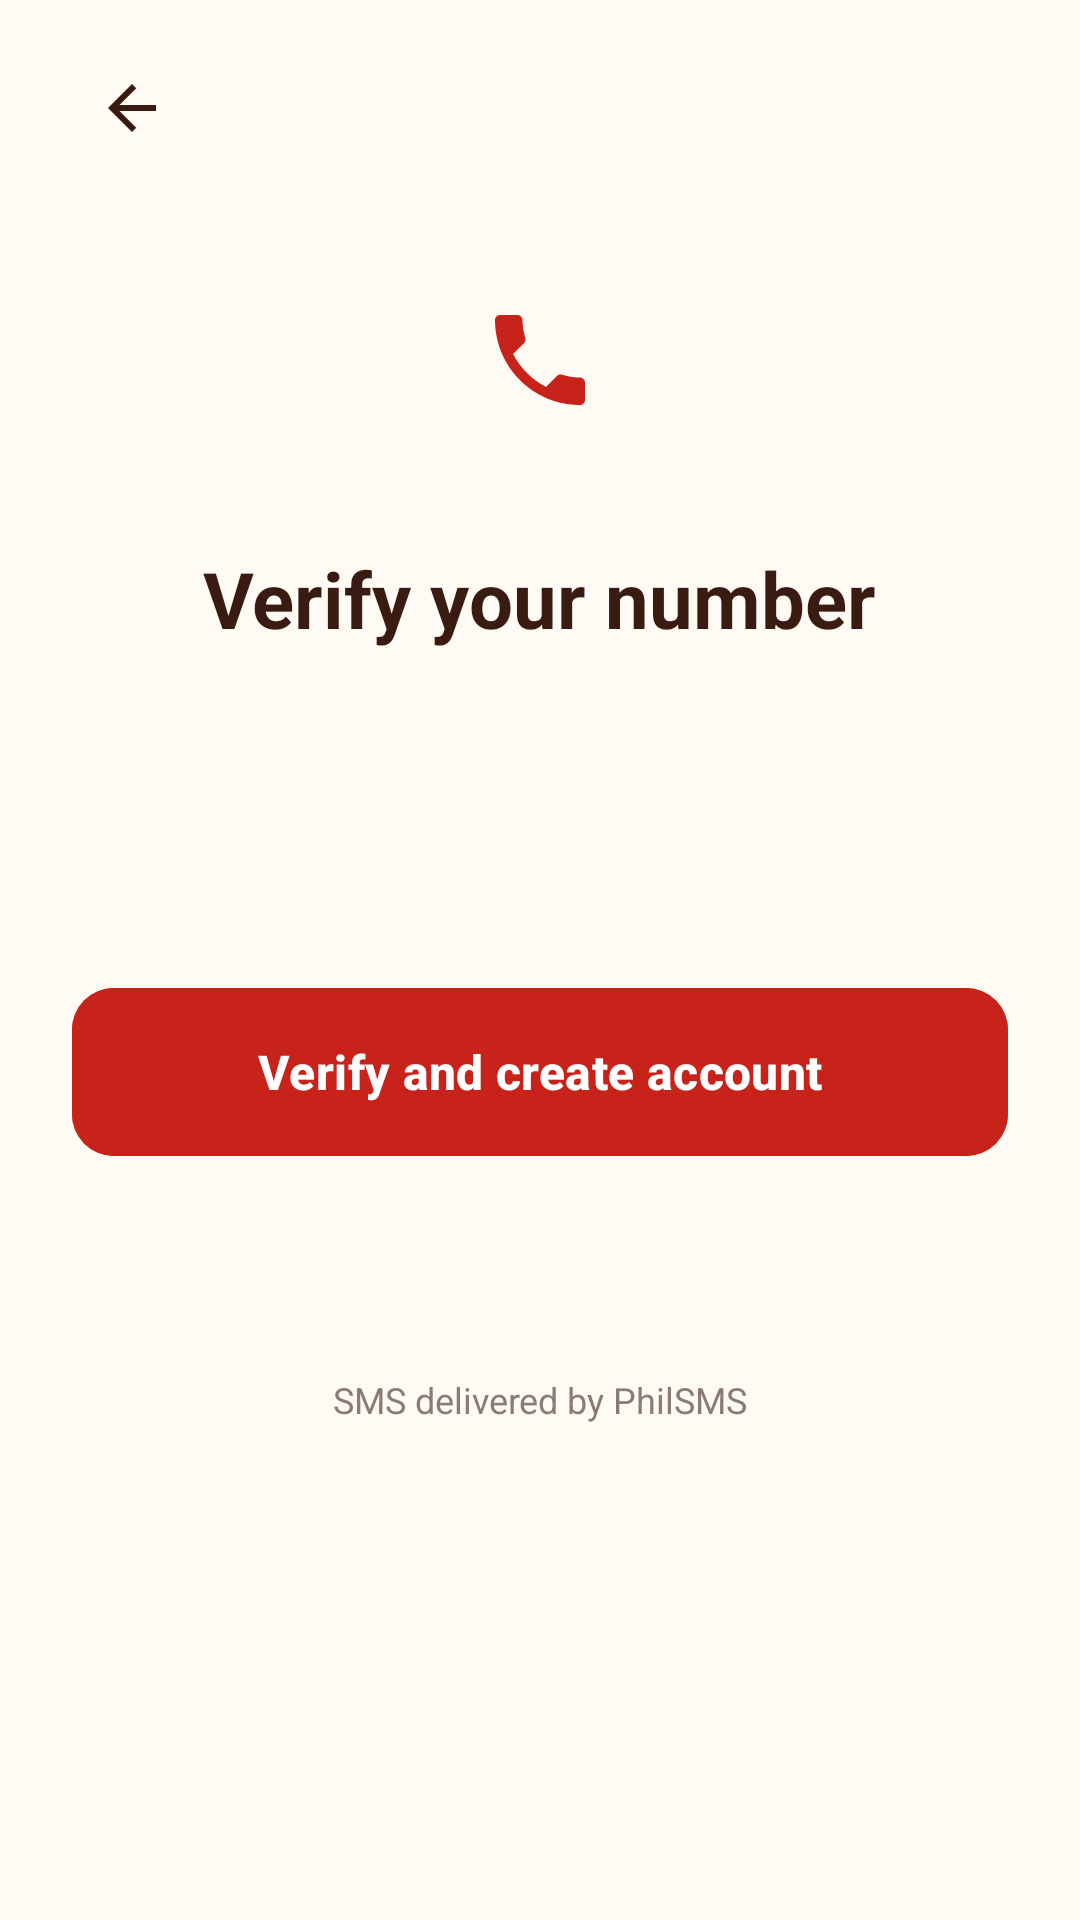

Named icons in this screenshot (1080*1920) and their bounding boxes, (x1, y1, x2, y2):
Back: (108, 84, 156, 132)
phone: (495, 315, 585, 405)
